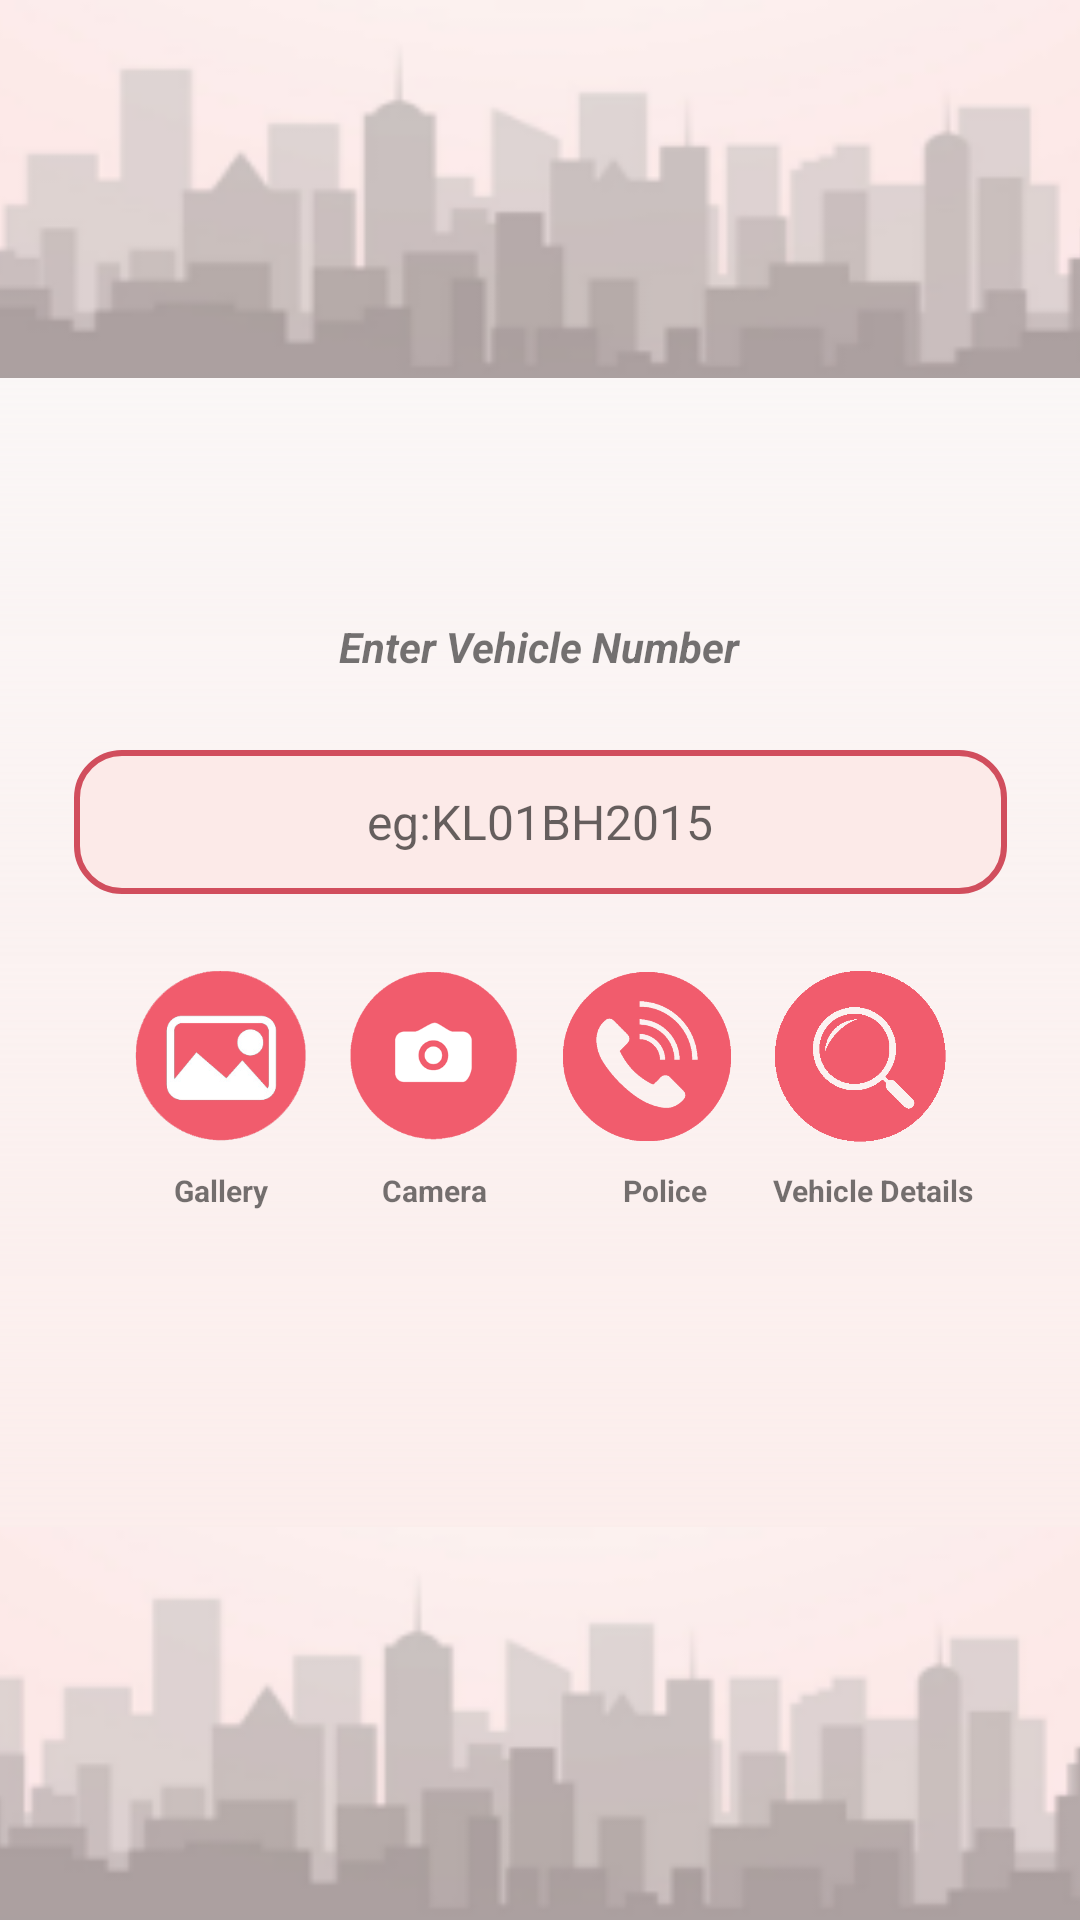

Icons on this 1080×1920 Android screen, each with its box as (x1=x1, y1=y1, x2=x2, y2=y2):
phonecall: (x1=563, y1=972, x2=731, y2=1141)
